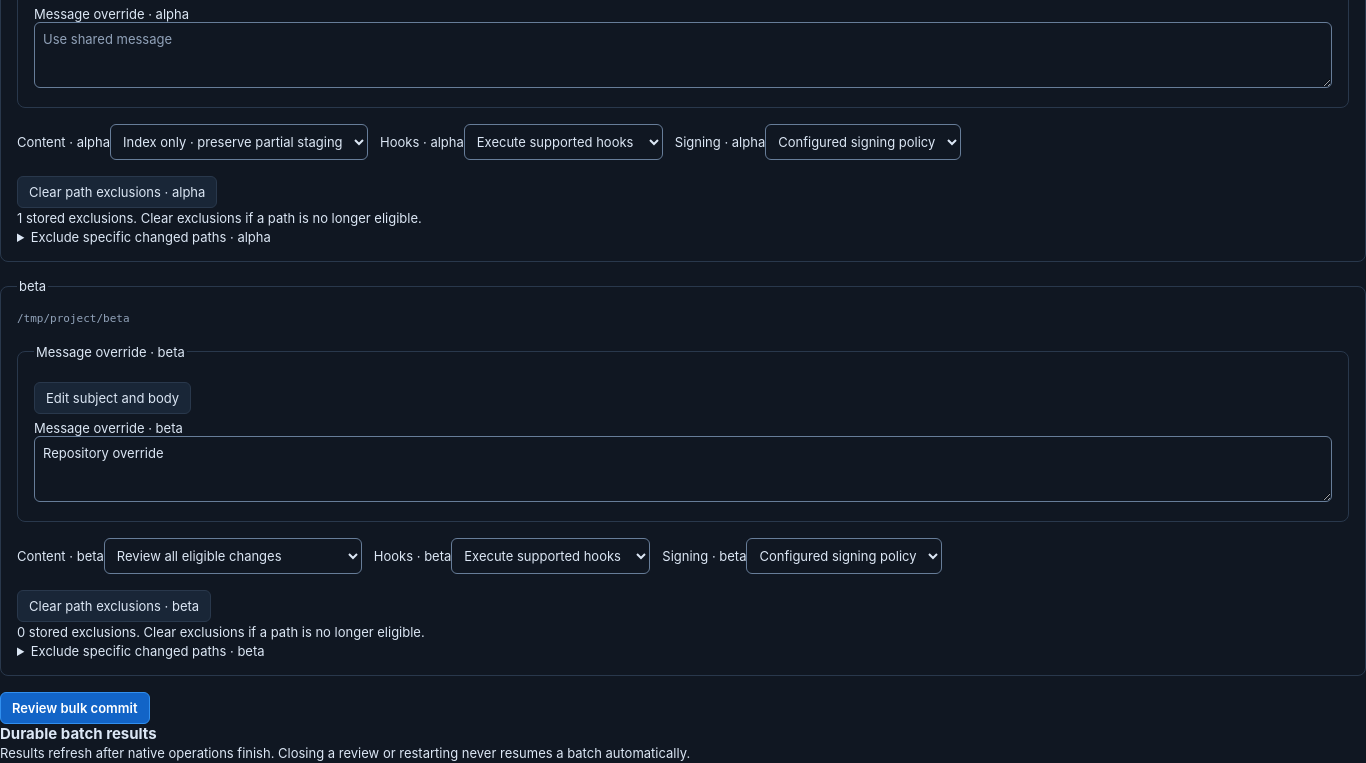
Scenario: prepares only explicit selections with exact overrides, sources and exclusions through review
This screenshot has width=1366, height=763.
Earlier steps of the test are not shown.
Later steps or results of the test are not shown.
(page scrolled)
Click the button "Review bulk commit": click(75, 708) [0,692,150,724]
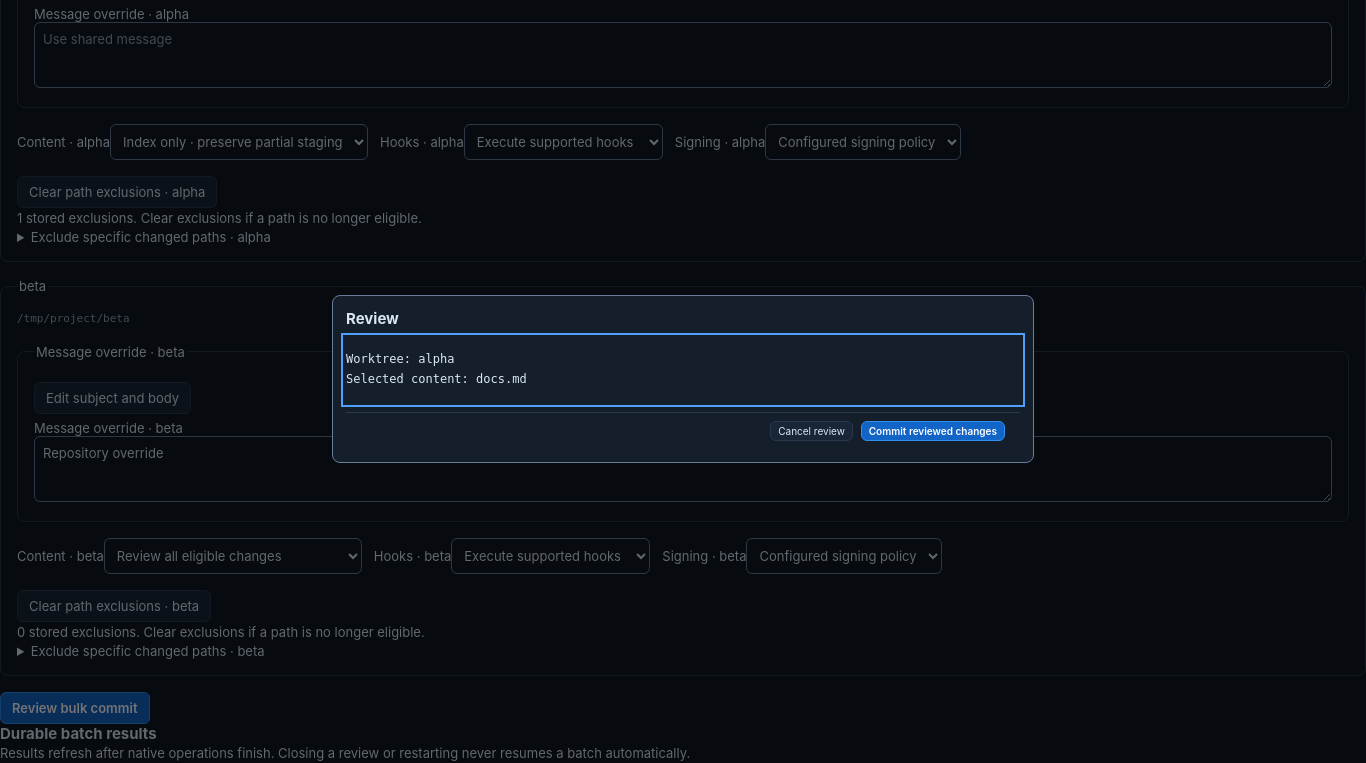
Expected: the text "Worktree: alpha Selected content: docs.md" is shown, [346,352,527,386]
